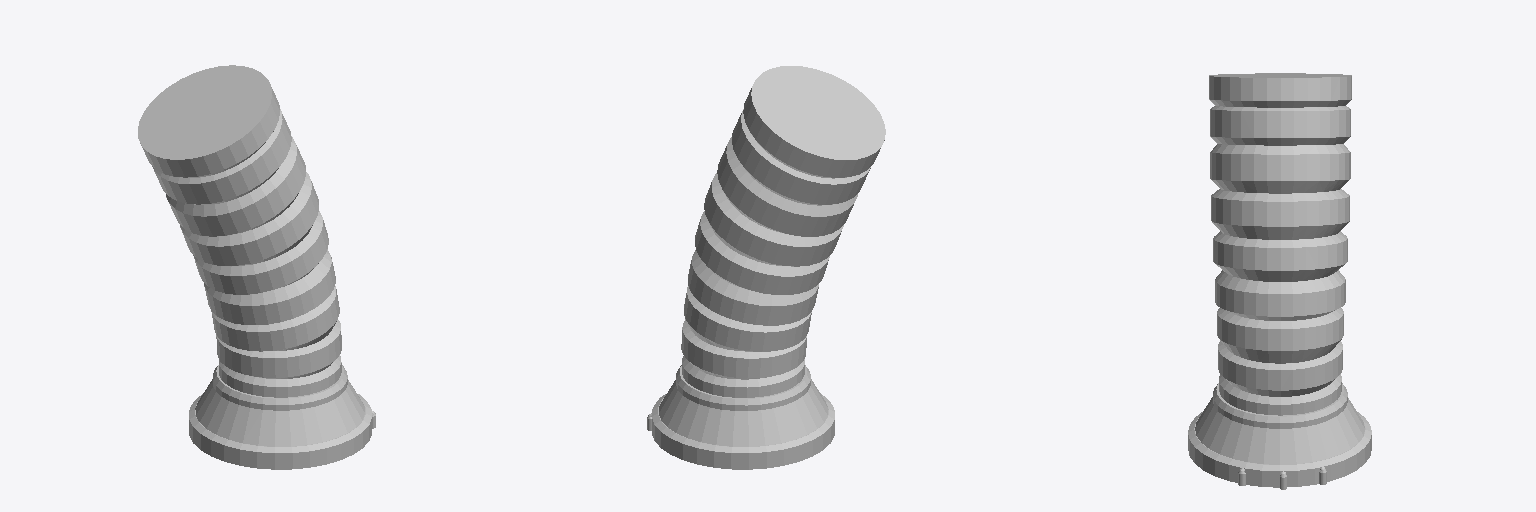
Rendered from pata_delantera_der.obj.
3 views of the same model, side by side, from view 1: azimuth 30°, elevation 25°; view 2: azimuth 150°, elevation 25°; view 3: azimuth 270°, elevation 25° (orthographic).
Parts seen in each view (by area): view 1: C_rculo, C_rculo_009_C_rculo_010, C_rculo_010_C_rculo_011, C_rculo_008_C_rculo_009; view 2: C_rculo, C_rculo_009_C_rculo_010, C_rculo_010_C_rculo_011, C_rculo_008_C_rculo_009; view 3: C_rculo, C_rculo_009_C_rculo_010, C_rculo_010_C_rculo_011, C_rculo_008_C_rculo_009.
Part boxes in pixels (bbox=[...]): C_rculo: bbox=[138, 65, 341, 397]; C_rculo_009_C_rculo_010: bbox=[195, 379, 364, 446]; C_rculo_010_C_rculo_011: bbox=[189, 394, 371, 469]; C_rculo_008_C_rculo_009: bbox=[213, 365, 347, 410]; C_rculo: bbox=[681, 66, 885, 397]; C_rculo_009_C_rculo_010: bbox=[659, 379, 828, 446]; C_rculo_010_C_rculo_011: bbox=[652, 394, 834, 469]; C_rculo_008_C_rculo_009: bbox=[676, 365, 810, 410]; C_rculo: bbox=[1209, 73, 1351, 415]; C_rculo_009_C_rculo_010: bbox=[1195, 397, 1364, 464]; C_rculo_010_C_rculo_011: bbox=[1188, 412, 1371, 487]; C_rculo_008_C_rculo_009: bbox=[1213, 383, 1347, 428].
Size of the model in its own units: 1.39 by 2.24 by 1.03.